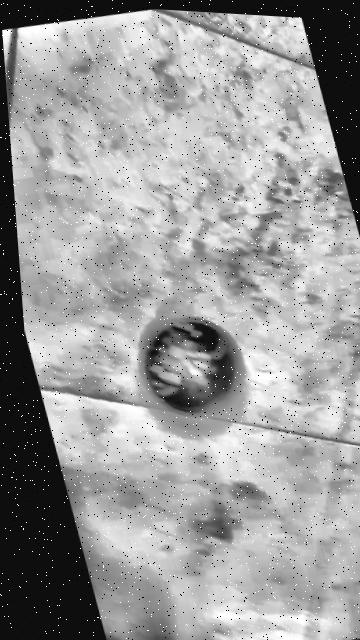pot: (122, 303, 256, 427)
